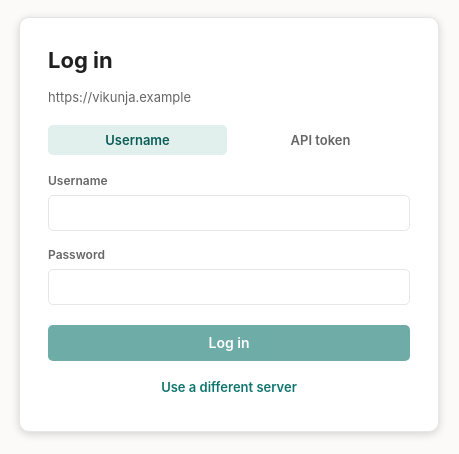
Scenario: LoginStep — the submit guard › needs both halves of a username login
Type "alice" into the field labelled "Username" at (229, 212), box [48, 194, 410, 230]
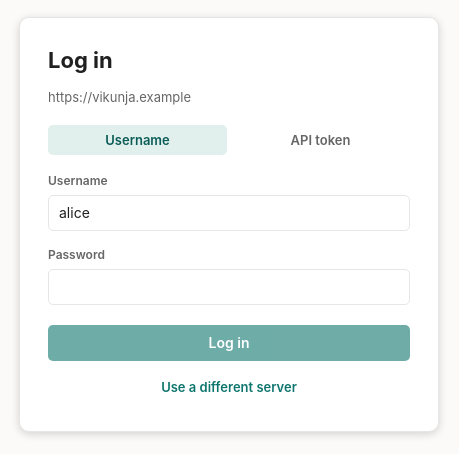
Expected: the button "Log in" is disabled, [48, 324, 410, 360]
Type "hunter2" into the password field labelled "Password" at (229, 286), box [48, 268, 410, 304]
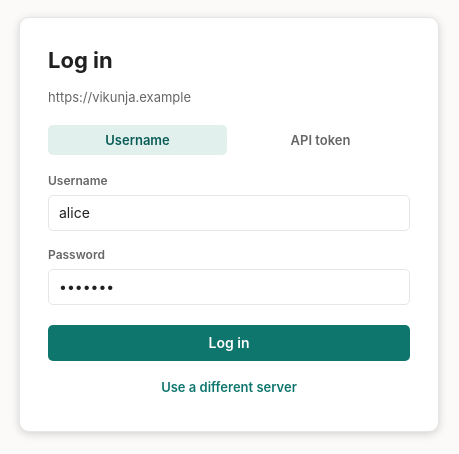
Result: the button "Log in" is enabled at [48, 324, 410, 360]
